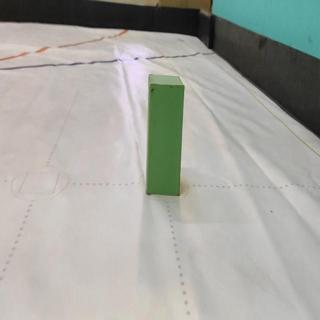greenbox: (145, 71, 185, 195)
